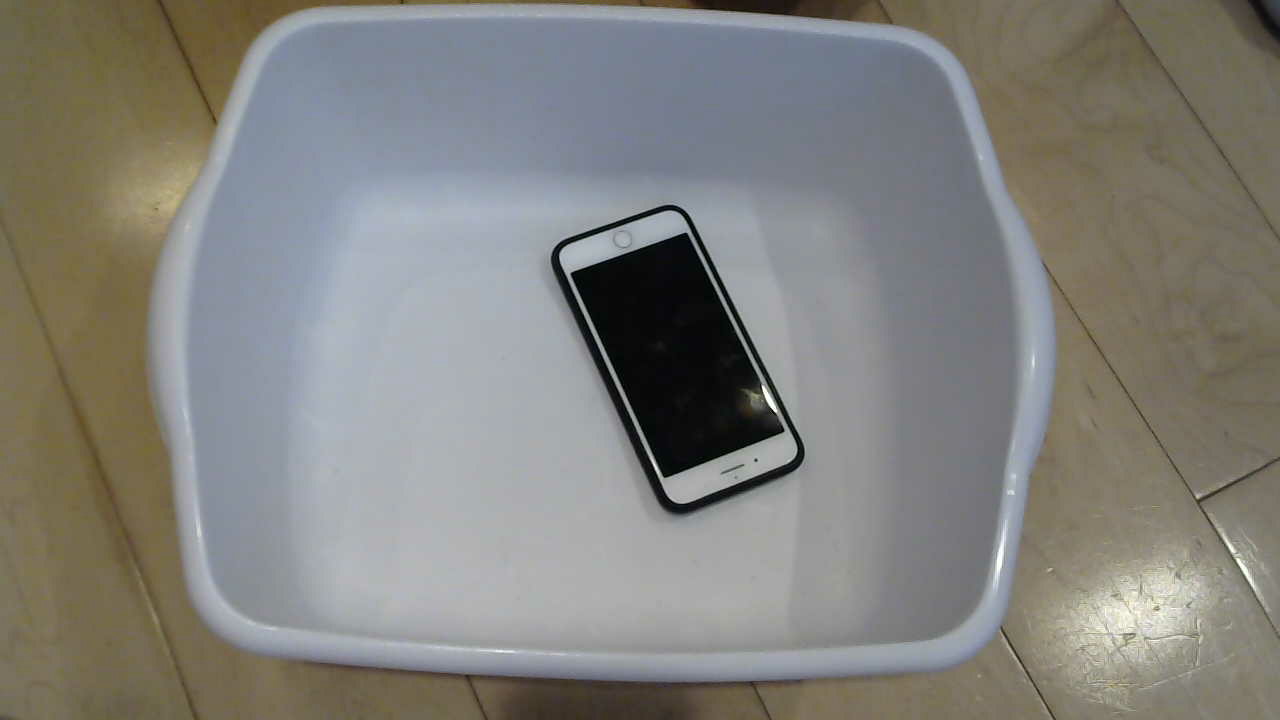phone: (522, 201, 833, 522)
